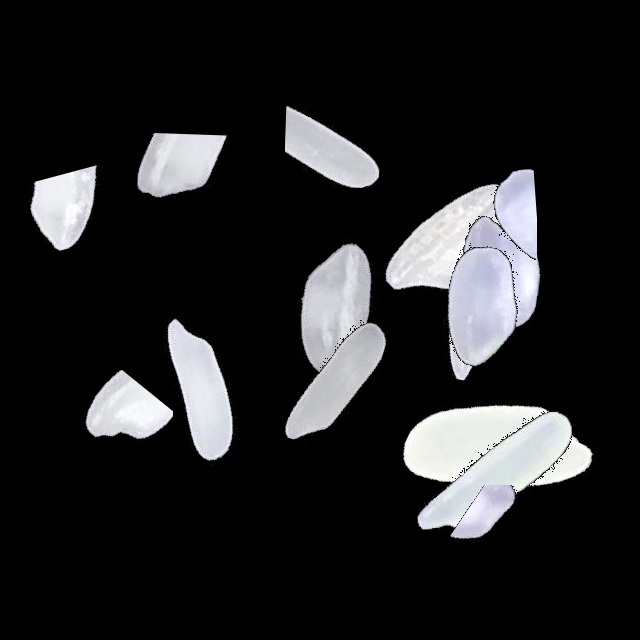Broken: (285, 21, 443, 271), (13, 114, 147, 364), (46, 316, 173, 566), (118, 72, 245, 322), (418, 95, 537, 345), (388, 485, 638, 594)
Full: (216, 185, 466, 435), (344, 179, 594, 429), (372, 326, 622, 576), (213, 256, 463, 506), (330, 120, 580, 370), (368, 344, 618, 594), (376, 150, 626, 400), (356, 180, 606, 430), (70, 263, 320, 513)
